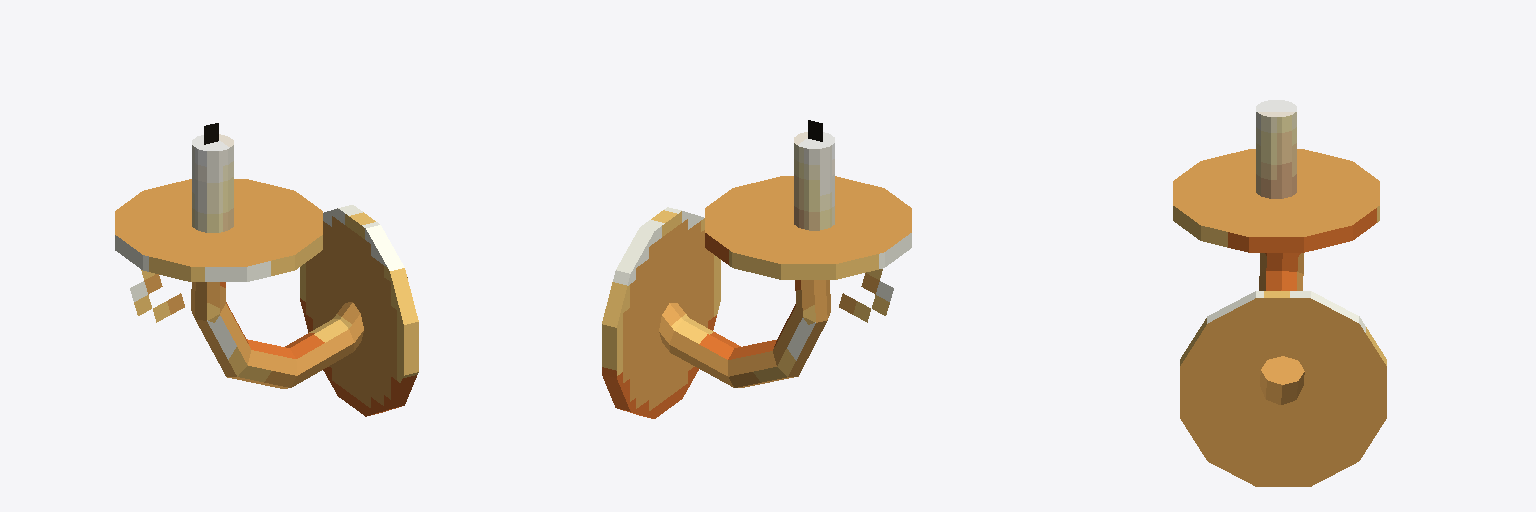
The picture shows the model from 3 angles: view 1: azimuth 30°, elevation 25°; view 2: azimuth 150°, elevation 25°; view 3: azimuth 270°, elevation 25°; orthographic projection.
Parts seen in each view (by area): view 1: cylinder, torus, cube; view 2: cylinder, torus, cube; view 3: cylinder, torus.
Boxes of the visible parts, x1,y1,x2,y2 form: cylinder: [115, 134, 418, 416]; torus: [191, 277, 407, 388]; cube: [130, 123, 218, 322]; cylinder: [602, 132, 911, 418]; torus: [659, 280, 830, 387]; cube: [808, 120, 893, 322]; cylinder: [1173, 100, 1386, 486]; torus: [1259, 253, 1304, 404].
Bounding box in the file's own units: 0.6208 × 0.7 × 0.3875.
Materials: 1 (1 with a texture image).